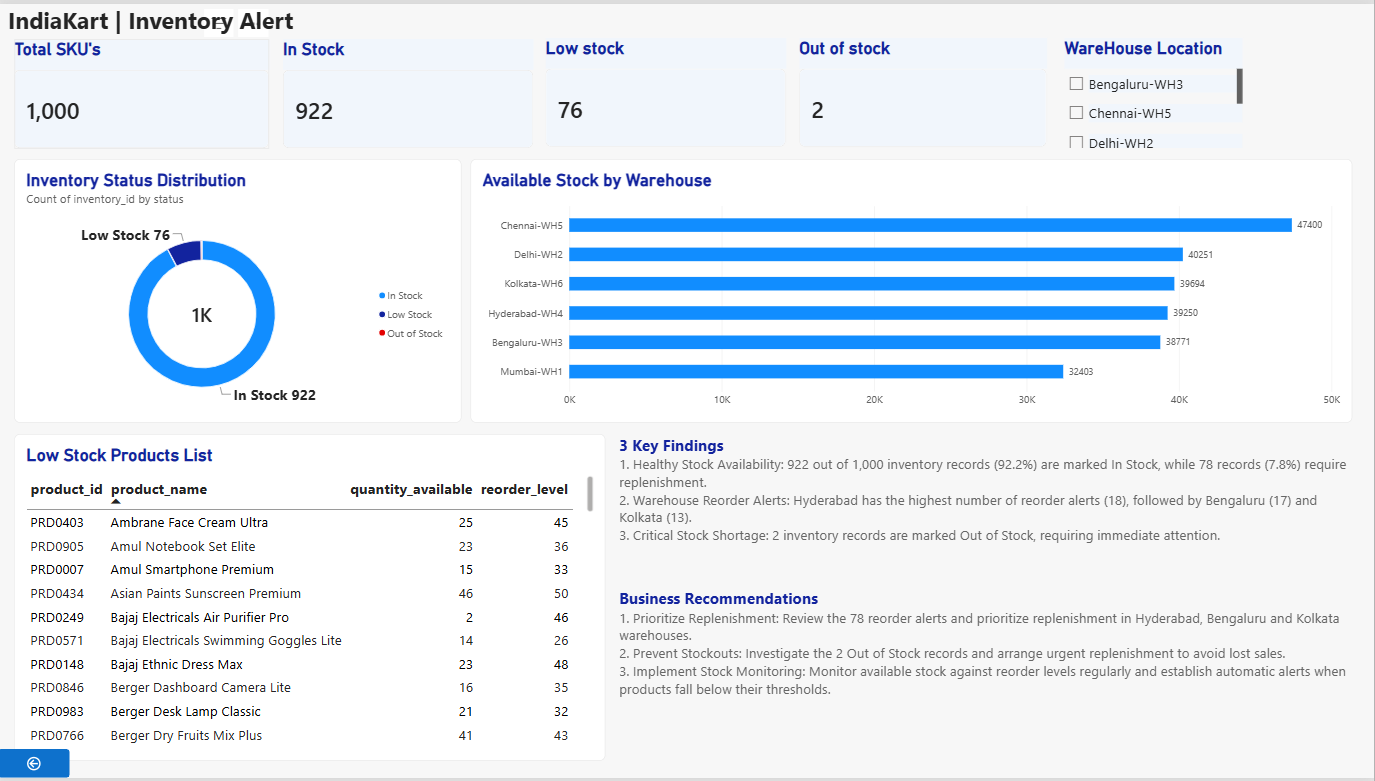

Layout of this report page (visuals, bound fields, positions):
{"tool":"powerbi","page":{"name":"Inventory Alert","canvas":[1920,1080],"ordinal":4},"visuals":[{"type":"cardVisual","title":"Total SKU''s","fields":{"Data":["products DA.Total SKUs"]},"box":[21.9,49.7,355.9,153.1],"z":0},{"type":"textbox","box":[13.9,0,411.5,63.6],"z":1000},{"type":"cardVisual","title":"In Stock","fields":{"Data":["CountNonNull(inventory DA.inventory_id)"]},"box":[397.6,49.7,349.9,153.1],"z":2000},{"type":"cardVisual","title":"Low stock","fields":{"Data":["Count(inventory DA.inventory_id)"]},"box":[763.4,47.7,336,153.1],"z":3000},{"type":"cardVisual","title":"Out of stock","fields":{"Data":["Count(inventory DA.inventory_id)"]},"box":[1117.3,47.7,345.9,153.1],"z":4000},{"type":"donutChart","title":"Inventory Status Distribution","fields":{"Category":["inventory DA.status"],"Y":["CountNonNull(inventory DA.inventory_id)"]},"box":[21.9,216.7,624.2,367.8],"z":5000},{"type":"clusteredBarChart","title":"Available Stock by Warehouse","fields":{"Category":["inventory DA.warehouse_location"],"Y":["Sum(inventory DA.quantity_available)"]},"box":[660,216.7,1230.6,367.8],"z":6000},{"type":"slicer","title":"WareHouse Location","fields":{"Values":["inventory DA.warehouse_location"]},"box":[1487,47.7,248.5,153.1],"z":7000},{"type":"textbox","box":[867.7,600.6,1022.5,194],"z":8000},{"type":"textbox","box":[867.7,814.9,1022.5,202.5],"z":9000},{"type":"tableEx","title":"Low Stock Products List","fields":{"Values":["inventory DA.product_id","products DA.product_name","inventory DA.quantity_available","inventory DA.reorder_level"]},"box":[22.1,600.6,825.1,456],"z":10000},{"type":"actionButton","box":[0,1039.5,100,40],"z":11000}]}

Visuals, with their boxes in screenshot pixels (x1, y1, x2, y2), scaled from the page's 1920x1080 canvas onto the 1375x781 screenshot:
"Total SKU''s" cardVisual: (x1=16, y1=36, x2=271, y2=147)
textbox: (x1=10, y1=0, x2=305, y2=46)
"In Stock" cardVisual: (x1=285, y1=36, x2=535, y2=147)
"Low stock" cardVisual: (x1=547, y1=34, x2=787, y2=145)
"Out of stock" cardVisual: (x1=800, y1=34, x2=1048, y2=145)
"Inventory Status Distribution" donutChart: (x1=16, y1=157, x2=463, y2=423)
"Available Stock by Warehouse" clusteredBarChart: (x1=473, y1=157, x2=1354, y2=423)
"WareHouse Location" slicer: (x1=1065, y1=34, x2=1243, y2=145)
textbox: (x1=621, y1=434, x2=1354, y2=575)
textbox: (x1=621, y1=589, x2=1354, y2=736)
"Low Stock Products List" tableEx: (x1=16, y1=434, x2=607, y2=764)
actionButton: (x1=0, y1=752, x2=72, y2=780)
